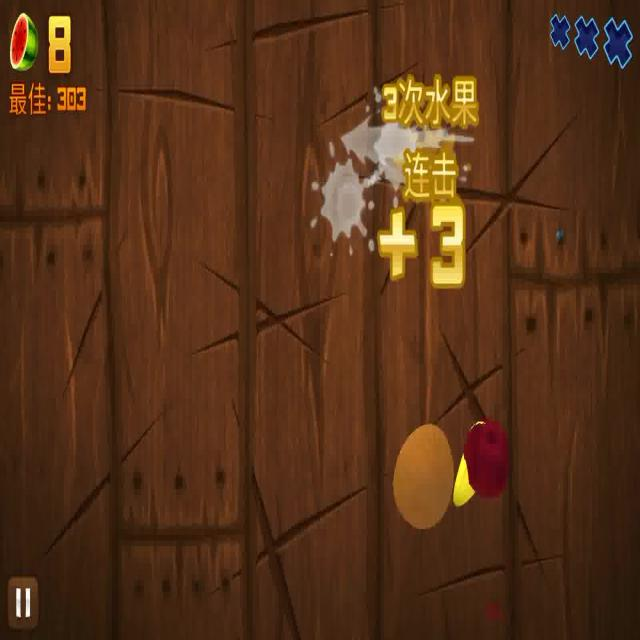fruit: (394, 407, 454, 535), (466, 410, 509, 507)
